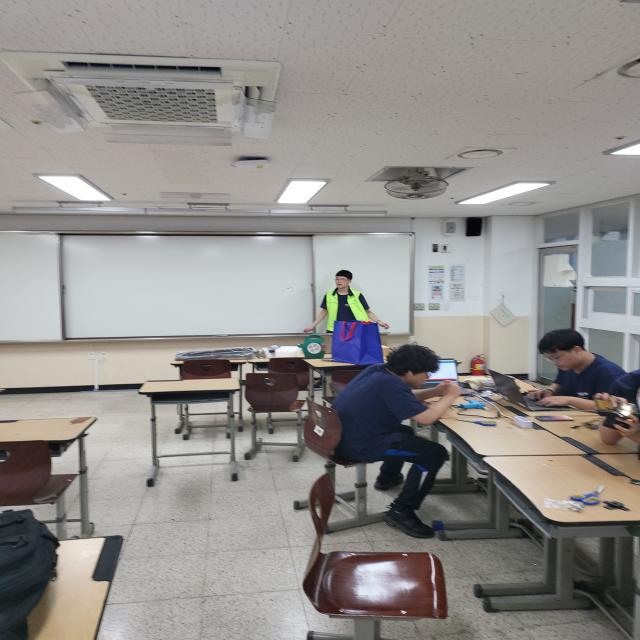weston_spy: (316, 282, 379, 338)
